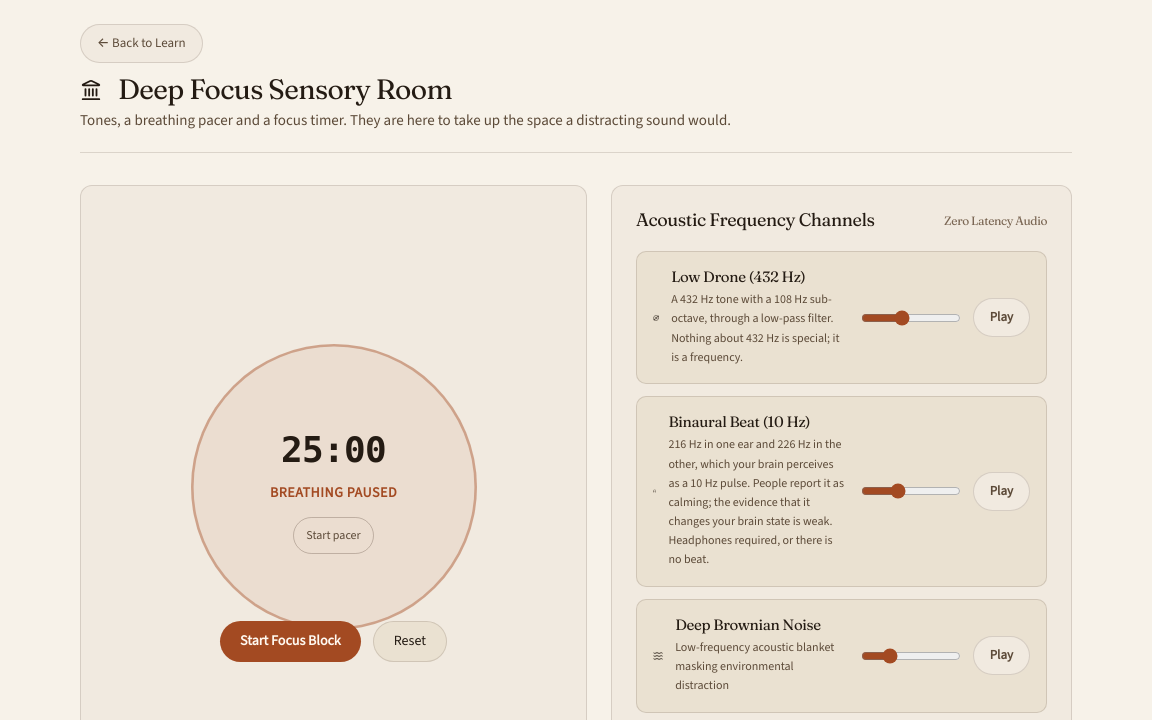
Test: Sensory Rooms › the focus timer counts real seconds once started
What coordinates should you click on to do the following:
click the button "Start Focus Block"
I would click on:
 (290, 642)
Its box is [220,622,361,662].
Wait 65000 ms
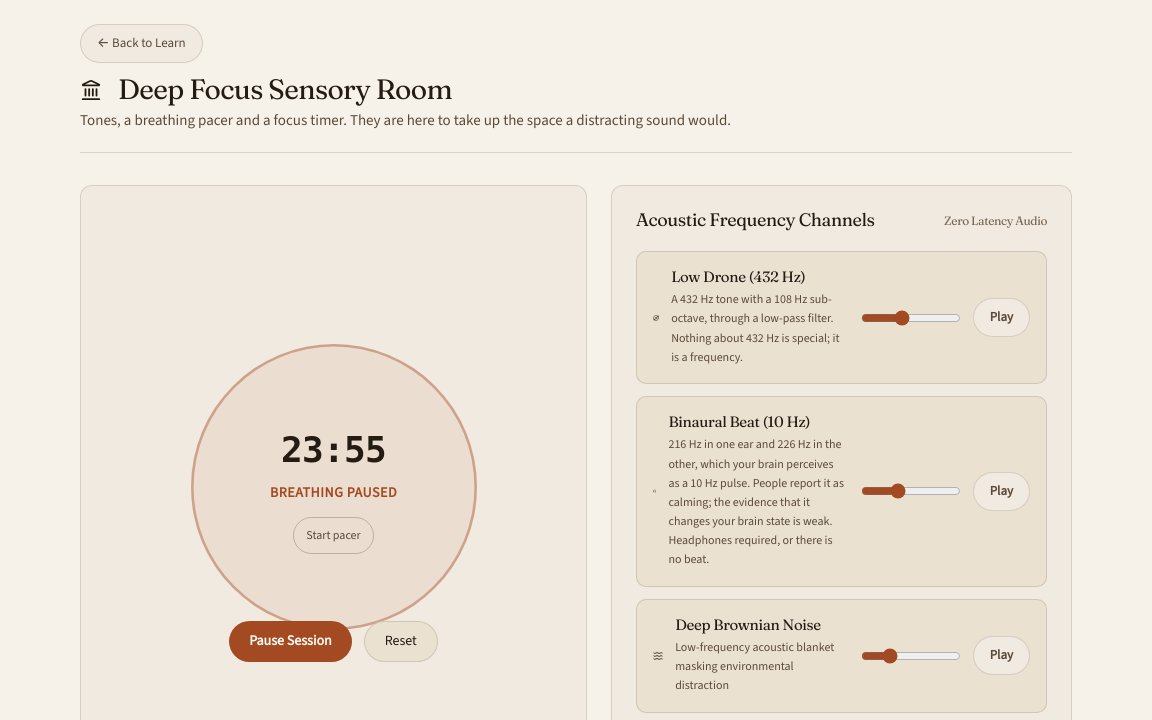
Expected: the text "23:55" is shown, [281,421,386,478]
